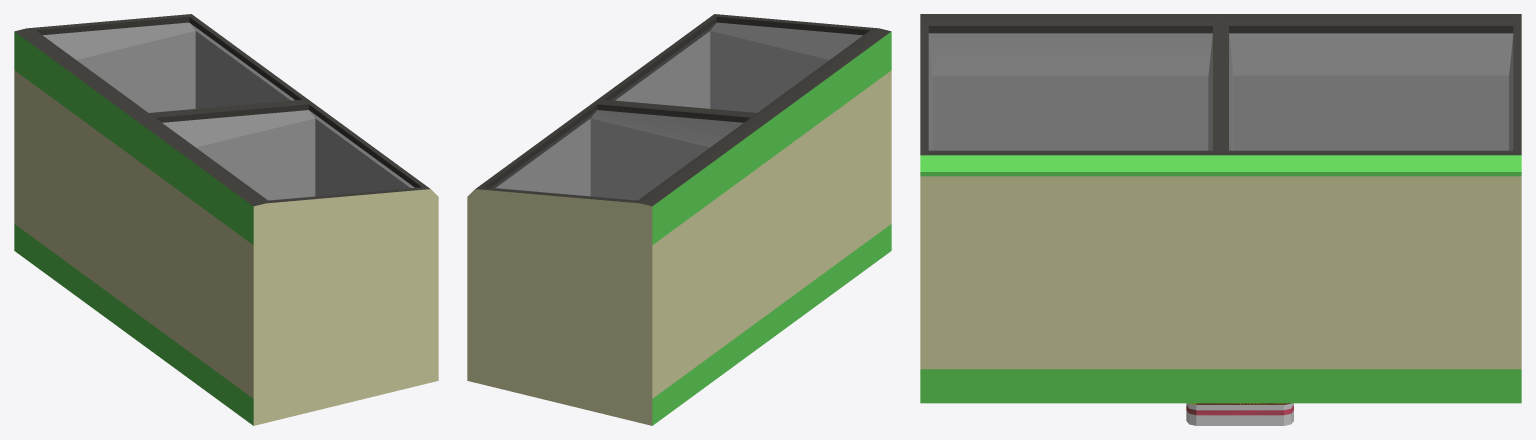
Rendered from E_Dondurulmuş_c.fbx.
3 views of the same model, side by side, from view 1: azimuth 30°, elevation 25°; view 2: azimuth 150°, elevation 25°; view 3: azimuth 270°, elevation 25° (orthographic). The views are drawn at different scales.
Visible parts, largest first — view 1: Dondurucu; view 2: Dondurucu; view 3: Dondurucu, Dondurma1, Dondurma2.
Boxes of the visible parts, left/top/right/bottom form: Dondurucu: left=14, top=14, right=438, bottom=425; Dondurucu: left=467, top=14, right=891, bottom=425; Dondurucu: left=920, top=14, right=1521, bottom=403; Dondurma1: left=1196, top=403, right=1293, bottom=425; Dondurma2: left=1186, top=403, right=1283, bottom=425.
Bounding box in the file's own units: 75.02 × 99.46 × 168.
